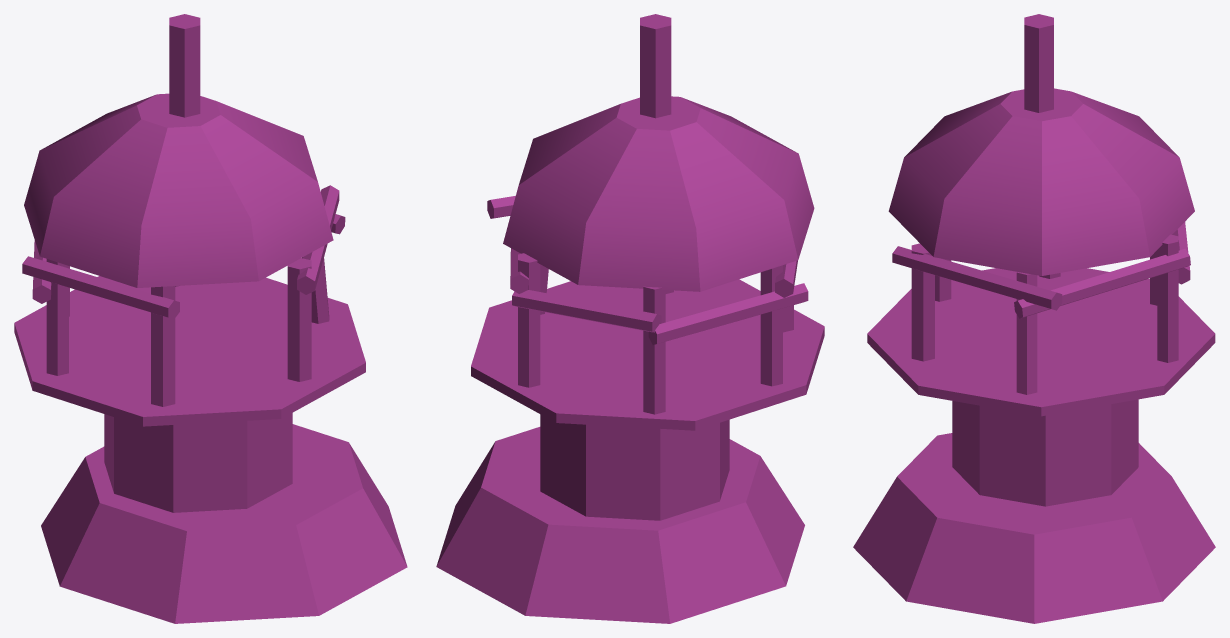
The model's file is SM_Bld_Tree_House_01_Collision.fbx.
The picture shows the model from 3 angles, left to right: view 1: azimuth 30°, elevation 25°; view 2: azimuth 150°, elevation 25°; view 3: azimuth 270°, elevation 25°; orthographic projection. The views are drawn at different scales.
Parts seen in each view (by area): view 1: SM_Bld_Tree_House_01_Collision; view 2: SM_Bld_Tree_House_01_Collision; view 3: SM_Bld_Tree_House_01_Collision.
Part boxes in pixels (<box>): SM_Bld_Tree_House_01_Collision: <box>14,14,407,623</box>; SM_Bld_Tree_House_01_Collision: <box>436,14,824,623</box>; SM_Bld_Tree_House_01_Collision: <box>853,14,1215,623</box>.
Bounding box in the file's own units: 610 × 878 × 567.
